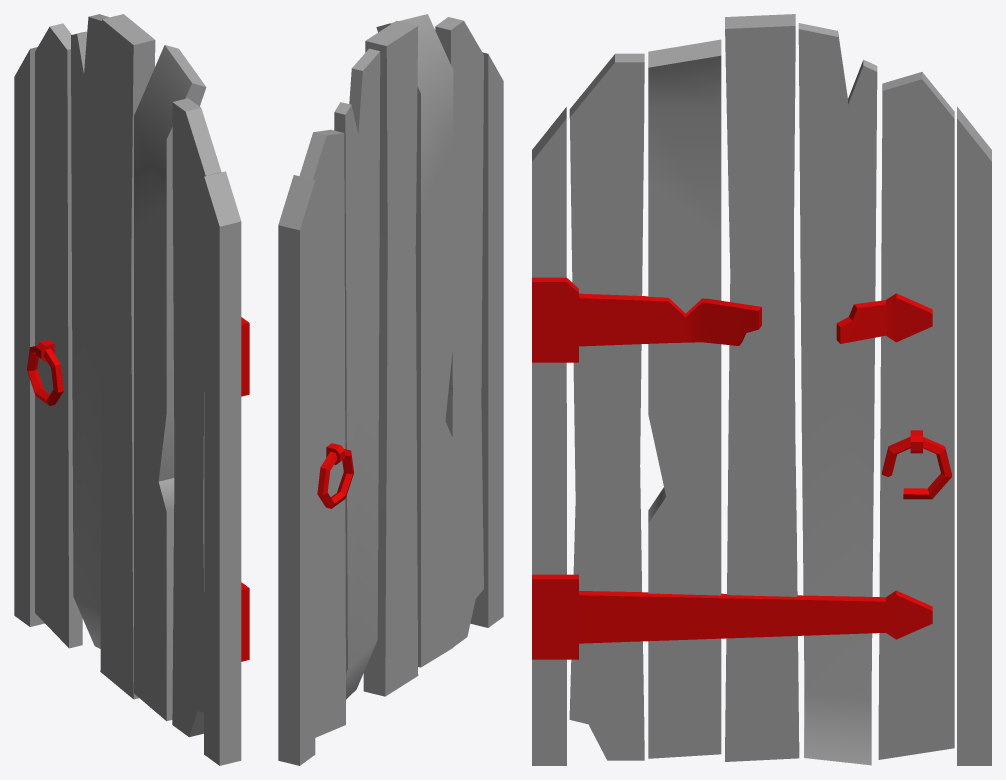
The model's file is Door V3 (destructable).fbx.
The picture shows the model from 3 angles, left to right: view 1: azimuth 30°, elevation 25°; view 2: azimuth 150°, elevation 25°; view 3: azimuth 270°, elevation 25°; orthographic projection. The views are drawn at different scales.
Visible parts, largest first — view 1: pCube58, pCube41, pCube44, pCube70, pCube75, pCube74, pCube63, pCube72, pCube68, pCube61, pCube66, pCube65 (+4 smaller); view 2: pCube58, pCube44, pCube41, pCube70, pCube72, pCube63, pCube75, pCube65, pCube74, pCube68, pCube64, pCube61 (+4 smaller); view 3: pCube58, pCube72, pCube44, pCube41, pCube70, pCube75, pCube74, pCube63, pCube68, pCube61, pCube45, pCube66 (+4 smaller).
Boxes of the visible parts, x1,y1,x2,y2 form: pCube58: (14,47,249,765); pCube41: (172,98,221,520); pCube44: (71,14,109,376); pCube70: (134,208,174,481); pCube75: (134,464,174,721); pCube74: (35,181,72,476); pCube63: (102,14,155,265); pCube72: (72,333,102,648); pCube68: (172,469,204,737); pCube61: (35,417,82,648); pCube66: (134,45,206,233); pCube65: (100,486,138,699); pCube58: (278,52,503,765); pCube44: (334,48,380,422); pCube41: (435,17,483,400); pCube70: (415,141,453,439); pCube72: (345,391,378,699); pCube63: (365,20,418,248); pCube75: (416,421,453,667); pCube65: (363,507,418,696); pCube74: (315,267,345,554); pCube68: (445,390,483,646); pCube64: (378,235,416,426); pCube61: (315,545,345,737); pCube58: (532,106,991,765); pCube72: (744,394,932,765); pCube44: (798,23,877,433); pCube41: (569,53,644,505); pCube70: (579,186,761,496); pCube75: (579,487,759,758); pCube74: (836,242,954,567); pCube63: (725,14,795,277); pCube68: (569,467,644,760); pCube61: (878,528,954,759); pCube45: (881,72,954,263); pCube66: (648,39,721,238).
Bounding box in the file's own units: 0.2002 × 2.38 × 1.34.
